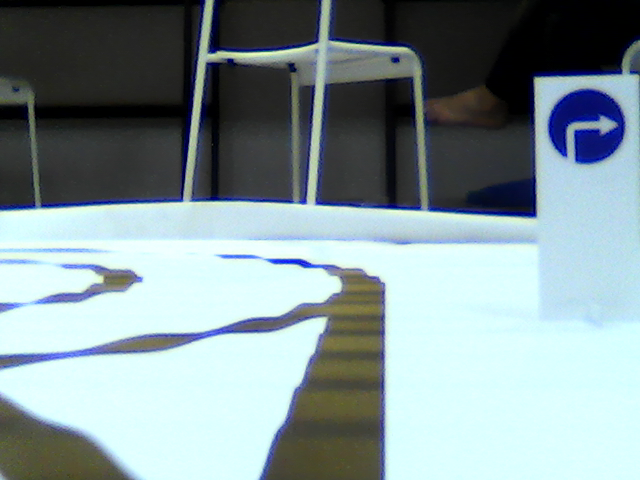Right: (545, 86, 630, 170)
